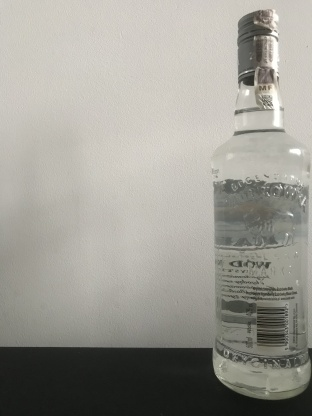nakretka: (235, 6, 281, 83)
